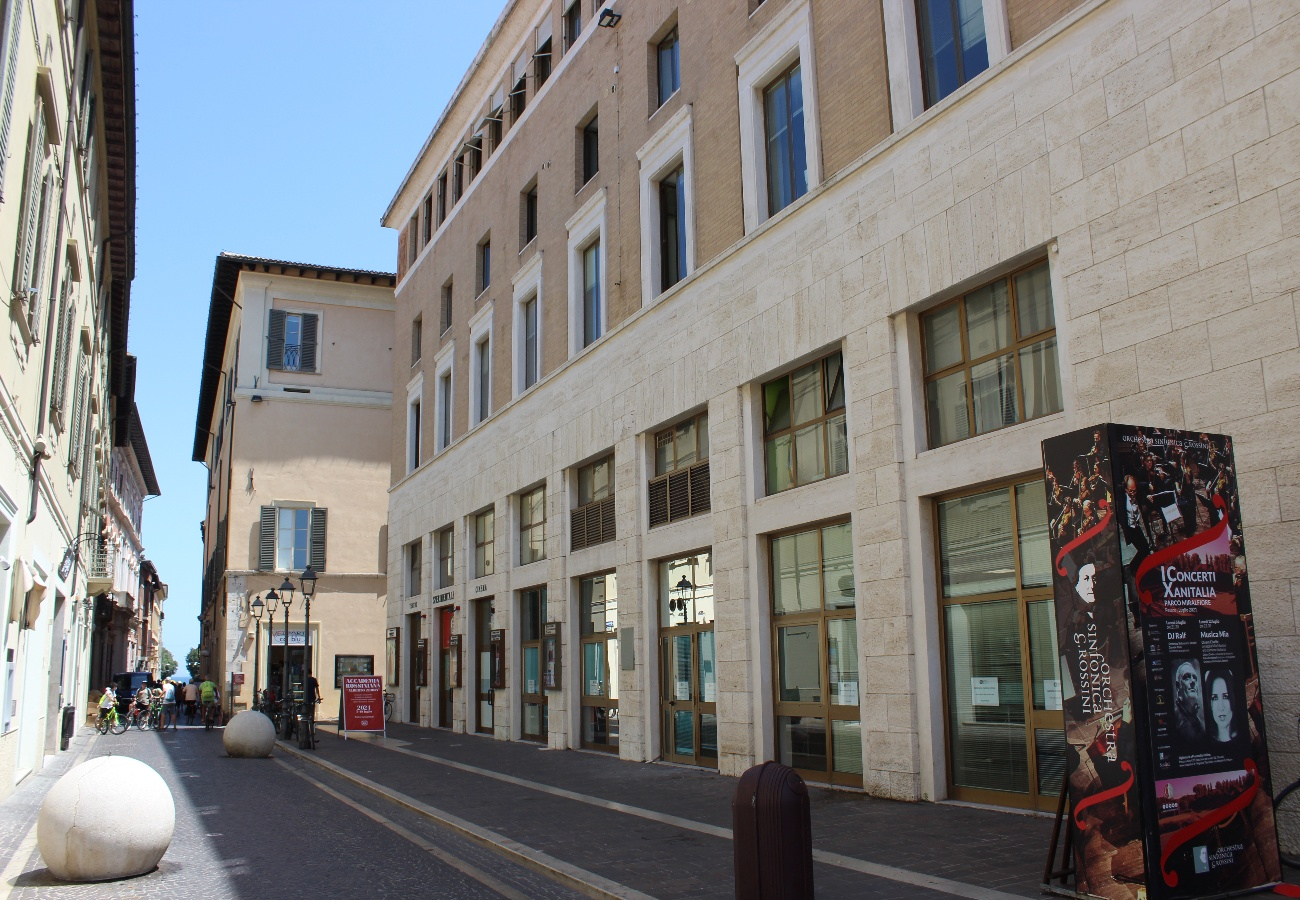Teatro Sperimentale: (374, 2, 1040, 817)
